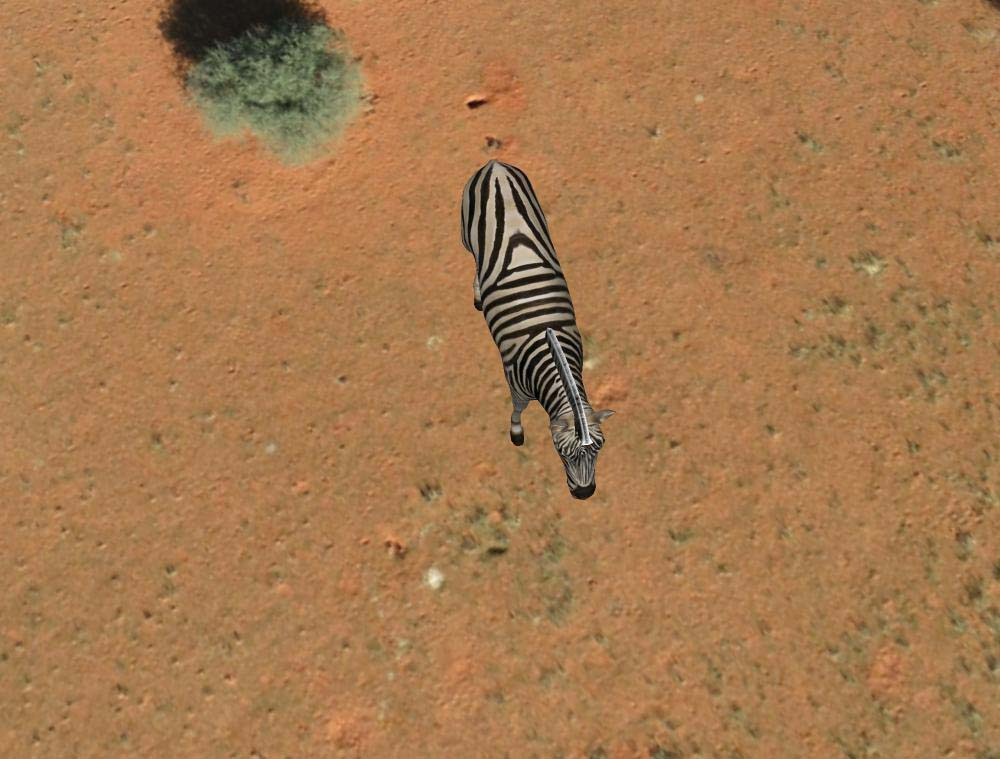zebra: (455, 154, 613, 502)
